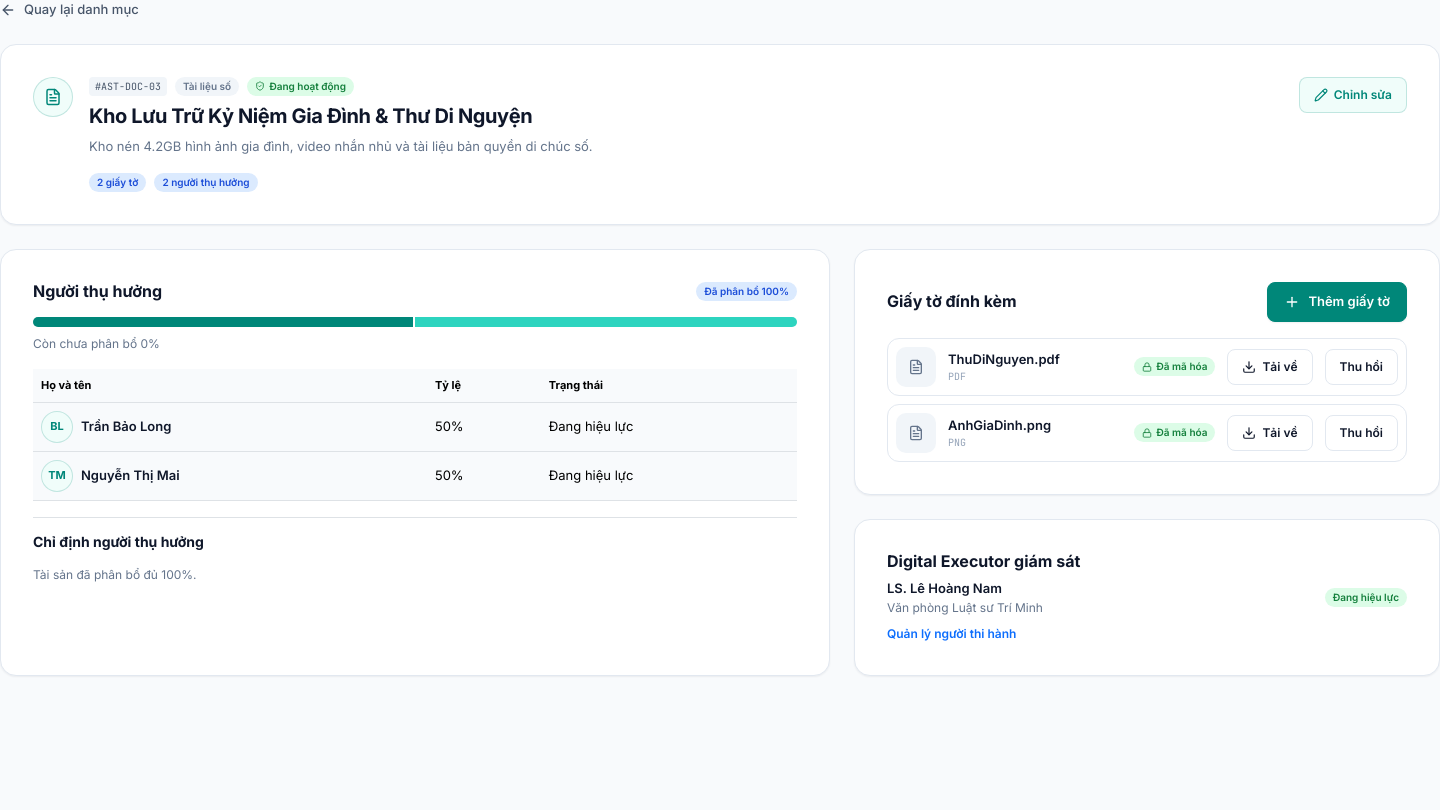
Scenario: AssetDetailPage revoke document › revokeDocument_Dialog_NamesTheFileAndWarns
Click the button "Thu hồi" in the row of "ThuDiNguyen.pdf" at (1361, 367), box [1325,349,1398,385]
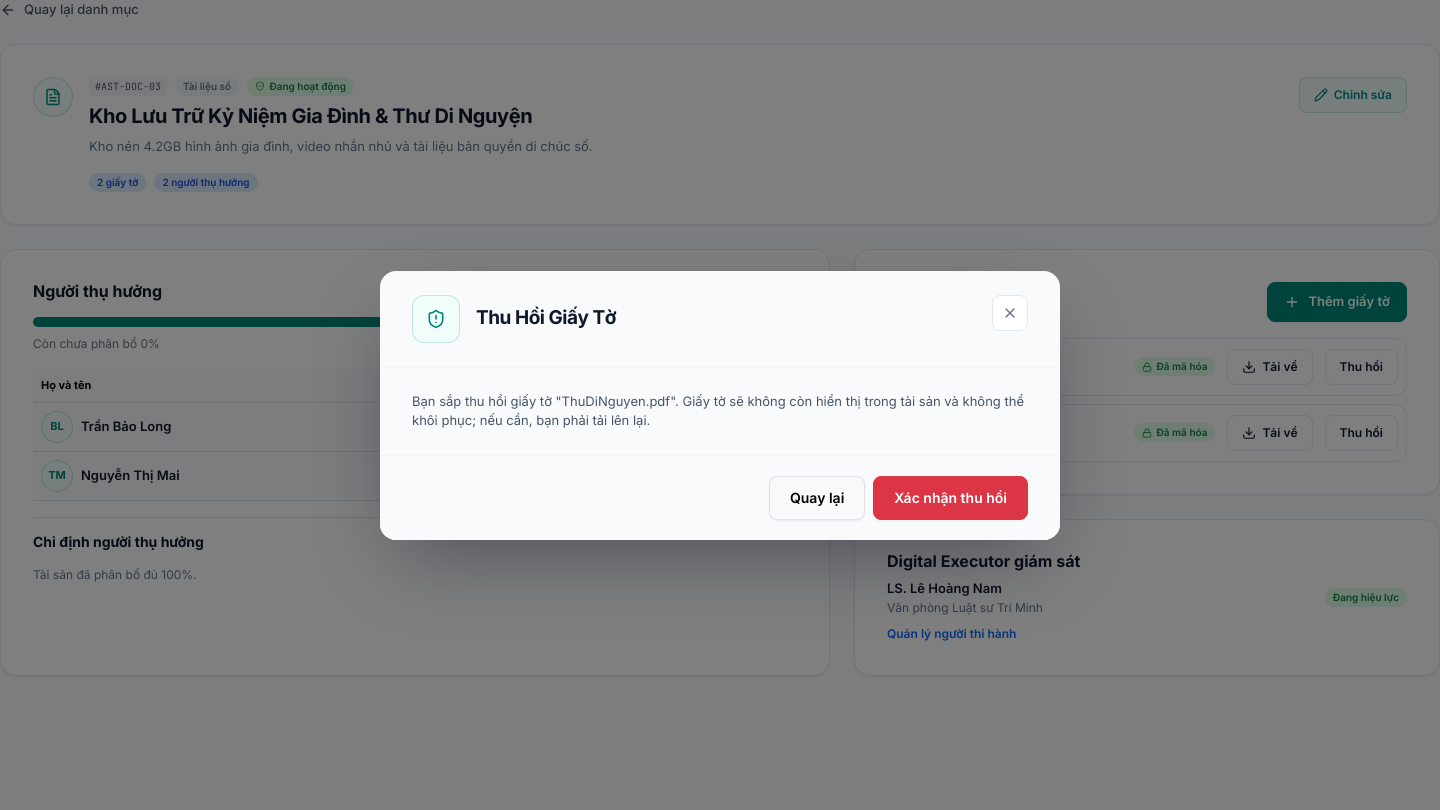
expect the text "không thể khôi phục" is shown: met, box [412,392,1024,428]
